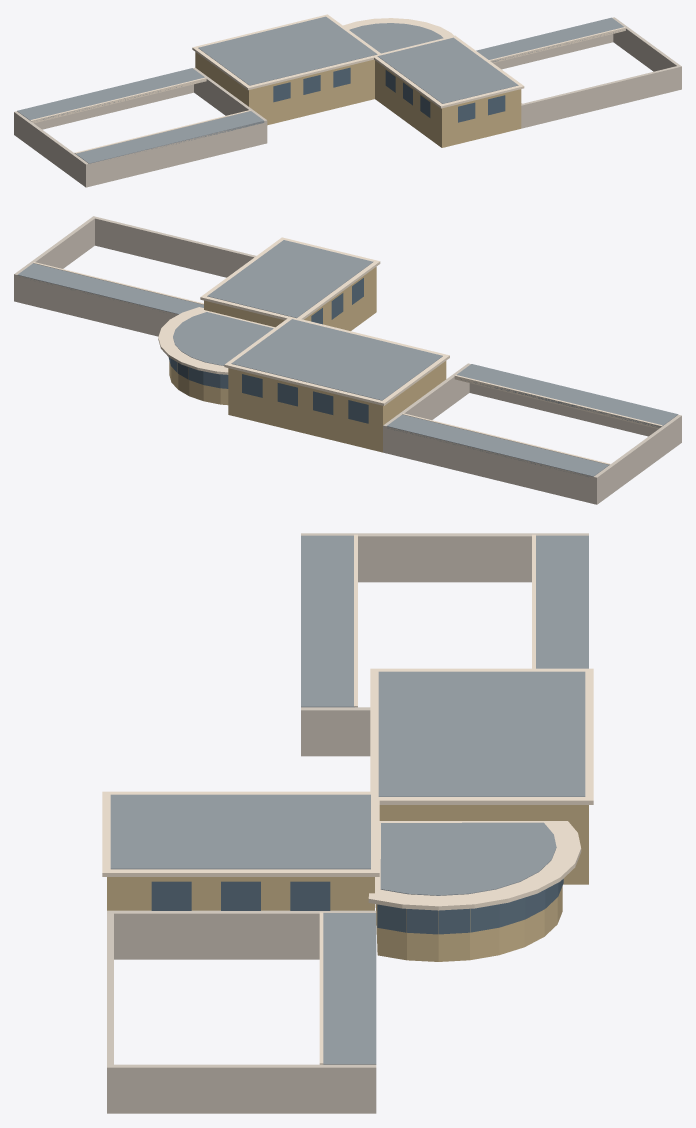
Rendered from atx-barton-springs-bathhouse.glb.
3 renders of one model, top to bottom at view 1: azimuth 30°, elevation 25°; view 2: azimuth 150°, elevation 25°; view 3: azimuth 270°, elevation 25°, orthographic. The views are drawn at different scales.
Visible parts, largest first — view 1: Barton Springs Bathhouse; view 2: Barton Springs Bathhouse; view 3: Barton Springs Bathhouse.
Part boxes in pixels (x1,y1,x2,y2): Barton Springs Bathhouse: (14, 14, 681, 187); Barton Springs Bathhouse: (14, 216, 681, 504); Barton Springs Bathhouse: (102, 533, 593, 1113).
Size of the model in its own units: 82.1 by 6.19 by 31.9.
